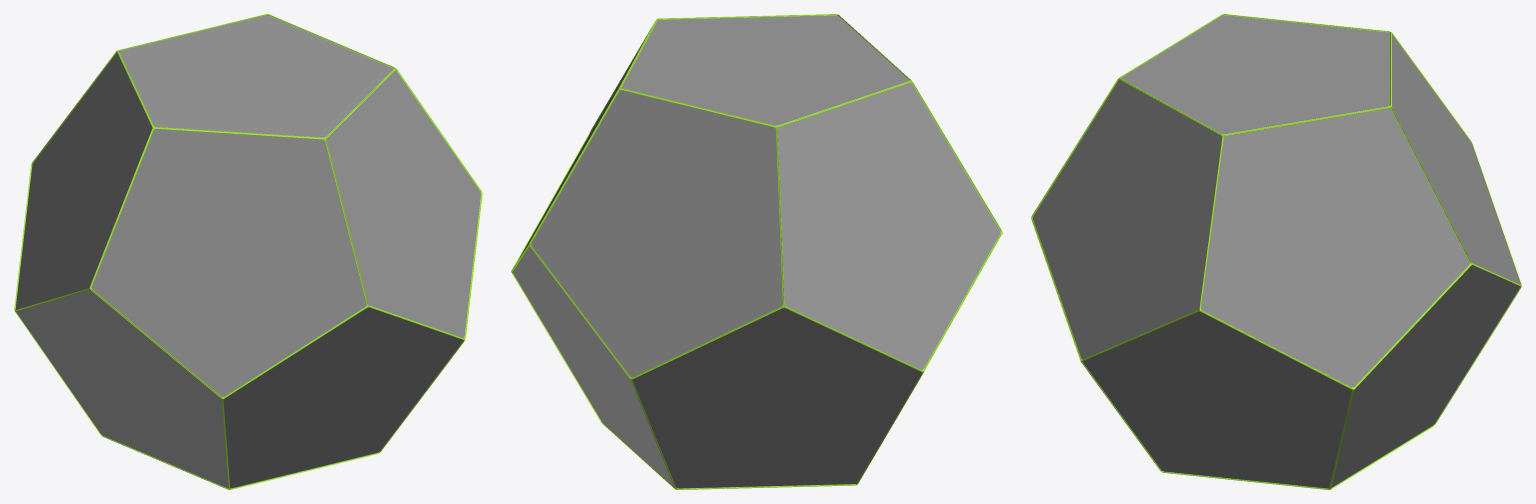
Rendered from Selectable_Areas.FBX.
3 views of the same model, side by side, from view 1: azimuth 30°, elevation 25°; view 2: azimuth 150°, elevation 25°; view 3: azimuth 270°, elevation 25° (orthographic). The views are drawn at different scales.
Parts seen in each view (by area): view 1: Cell_9, Cell_6, Cell_10, Cell_3, Cell_11, Cell_7, Cell_9_Outline, Cell_6_Outline, Cell_3_Outline, Cell_10_Outline, Cell_7_Outline, Cell_11_Outline (+1 smaller); view 2: Cell_1, Cell_7, Cell_8, Cell_3, Cell_4, Cell_1_Outline, Cell_7_Outline, Cell_8_Outline, Cell_3_Outline, Cell_2_Outline, Cell_4_Outline, Cell_2; view 3: Cell_2, Cell_6, Cell_5, Cell_3, Cell_4, Cell_1, Cell_2_Outline, Cell_6_Outline, Cell_5_Outline, Cell_4_Outline, Cell_3_Outline, Cell_1_Outline (+1 smaller).
Boxes of the visible parts, x1,y1,x2,y2 form: Cell_9: (91, 129, 366, 396); Cell_6: (326, 70, 480, 337); Cell_10: (223, 307, 463, 488); Cell_3: (119, 15, 393, 137); Cell_11: (16, 289, 228, 488); Cell_7: (15, 52, 152, 309); Cell_9_Outline: (90, 127, 368, 398); Cell_6_Outline: (325, 68, 482, 339); Cell_3_Outline: (117, 14, 395, 138); Cell_10_Outline: (222, 305, 464, 489); Cell_7_Outline: (14, 51, 153, 310); Cell_11_Outline: (15, 288, 230, 489); Cell_1: (531, 90, 782, 377); Cell_7: (777, 83, 1000, 369); Cell_8: (632, 308, 921, 488); Cell_3: (621, 15, 909, 125); Cell_4: (512, 246, 674, 486); Cell_1_Outline: (529, 88, 784, 379); Cell_7_Outline: (776, 81, 1002, 371); Cell_8_Outline: (631, 306, 923, 489); Cell_3_Outline: (620, 14, 911, 126); Cell_2_Outline: (511, 19, 657, 271); Cell_4_Outline: (511, 245, 676, 488); Cell_2: (518, 44, 642, 259); Cell_2: (1201, 108, 1469, 387); Cell_6: (1033, 80, 1221, 359); Cell_5: (1083, 311, 1351, 488); Cell_3: (1121, 15, 1390, 134); Cell_4: (1331, 265, 1520, 487); Cell_1: (1392, 34, 1520, 284); Cell_2_Outline: (1199, 107, 1471, 389); Cell_6_Outline: (1031, 78, 1223, 360); Cell_5_Outline: (1081, 310, 1353, 489); Cell_4_Outline: (1329, 263, 1521, 489); Cell_3_Outline: (1119, 14, 1391, 135); Cell_1_Outline: (1390, 32, 1521, 286).
Bounding box in the file's own units: 2066 × 1796 × 2182.
